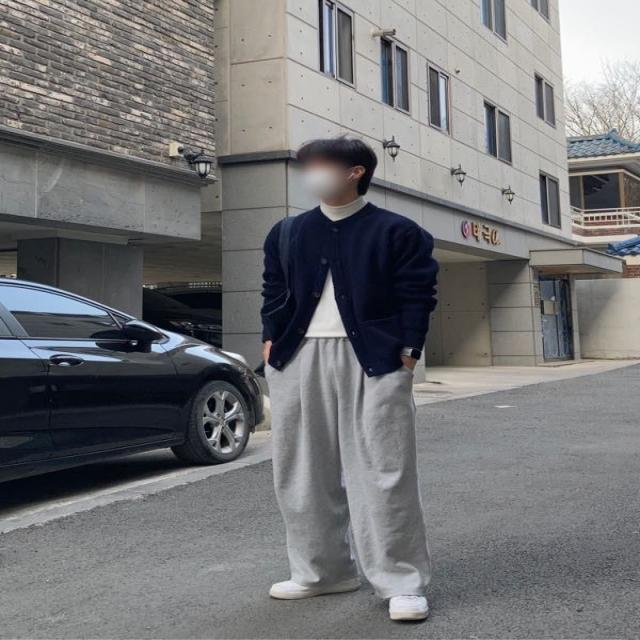cardigan: (261, 202, 436, 379)
trainingpants: (269, 335, 432, 598)
